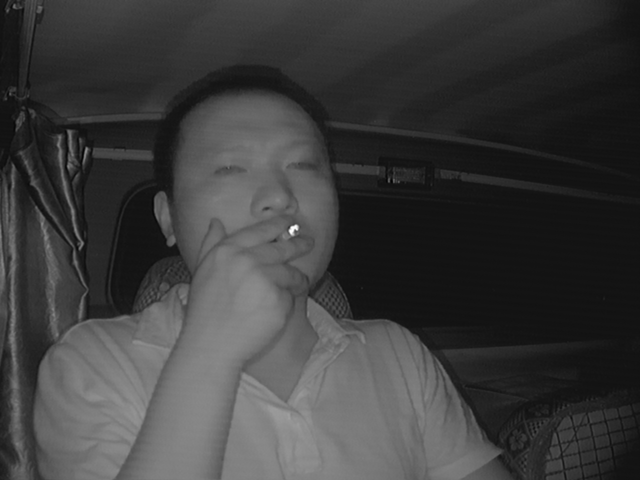hand: (228, 217, 313, 328)
